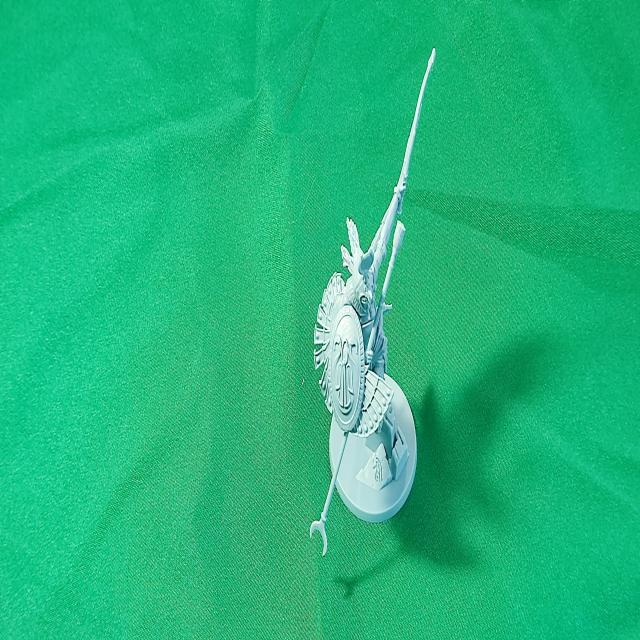isis: (303, 38, 448, 578)
